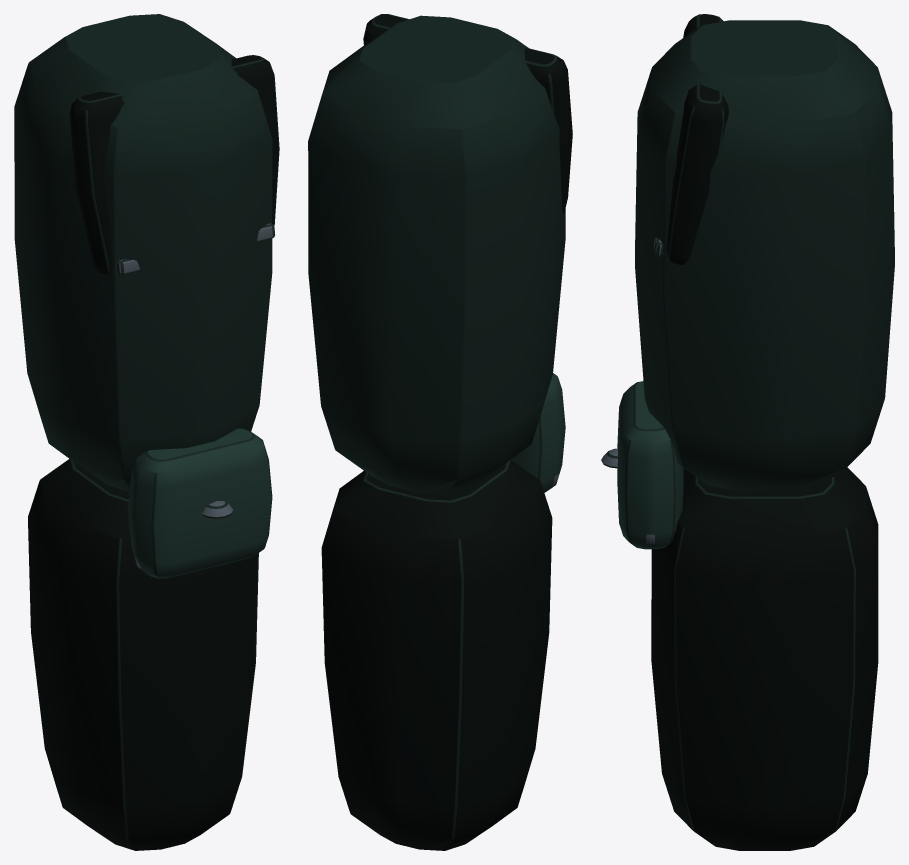
File: Escamas_CalcaL.fbx
3 views of the same model, side by side, from view 1: azimuth 30°, elevation 25°; view 2: azimuth 150°, elevation 25°; view 3: azimuth 270°, elevation 25° (orthographic).
Visible parts, largest first — view 1: Piece; view 2: Piece; view 3: Piece.
Part boxes in pixels (x1=…): Piece: x1=14, y1=14, x2=279, y2=850; Piece: x1=308, y1=14, x2=572, y2=850; Piece: x1=601, y1=14, x2=894, y2=850.
Bounding box in the file's own units: 0.2095 × 0.7561 × 0.2567.
